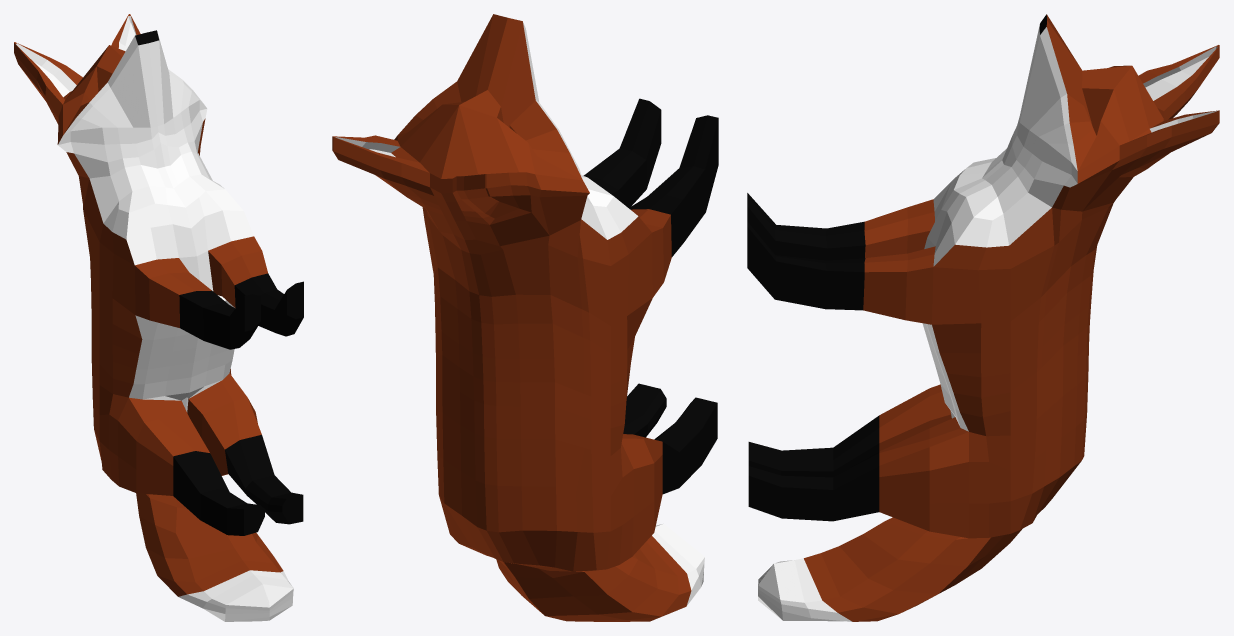
File: EDITEDFoxy 1.fbx
3 views of the same model, side by side, from view 1: azimuth 30°, elevation 25°; view 2: azimuth 150°, elevation 25°; view 3: azimuth 270°, elevation 25° (orthographic). The views are drawn at different scales.
Visible parts, largest first — view 1: Foxy1; view 2: Foxy1; view 3: Foxy1.
Boxes of the visible parts, box(x1,y1,x2,y2) form: Foxy1: box(14, 14, 303, 621); Foxy1: box(332, 14, 718, 621); Foxy1: box(747, 14, 1219, 621).
Size of the model in its own units: 6062 by 19582 by 14199.
